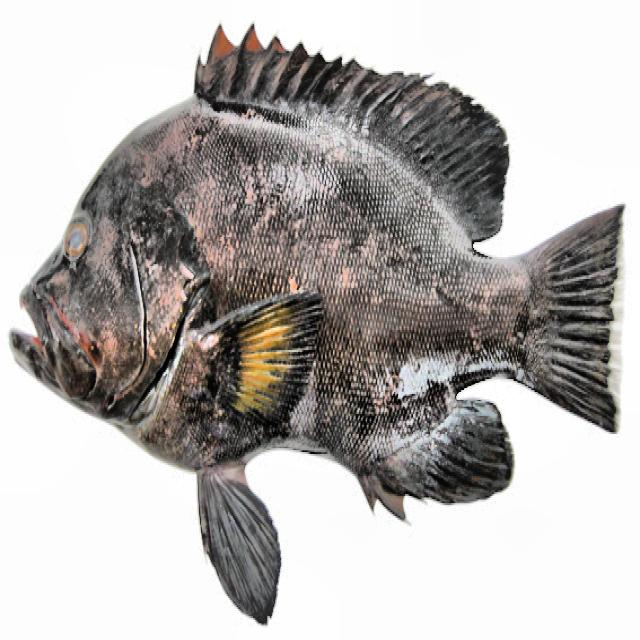fish: (8, 20, 625, 628)
